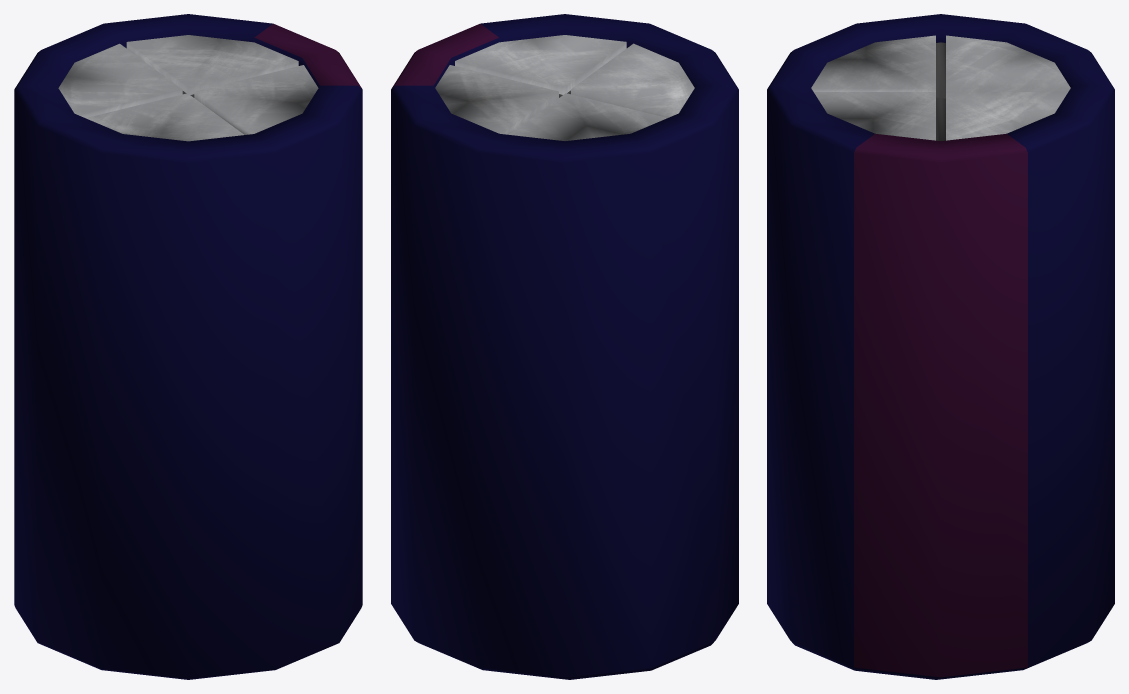
The model's file is kondensator.fbx.
3 views of the same model, side by side, from view 1: azimuth 30°, elevation 25°; view 2: azimuth 150°, elevation 25°; view 3: azimuth 270°, elevation 25° (orthographic).
Parts seen in each view (by area): view 1: Kondensator; view 2: Kondensator; view 3: Kondensator.
Part boxes in pixels (x1,y1,x2,y2): Kondensator: [14, 14, 362, 679]; Kondensator: [391, 14, 738, 679]; Kondensator: [767, 14, 1114, 679].
Bounding box in the file's own units: 200 × 331 × 200.
